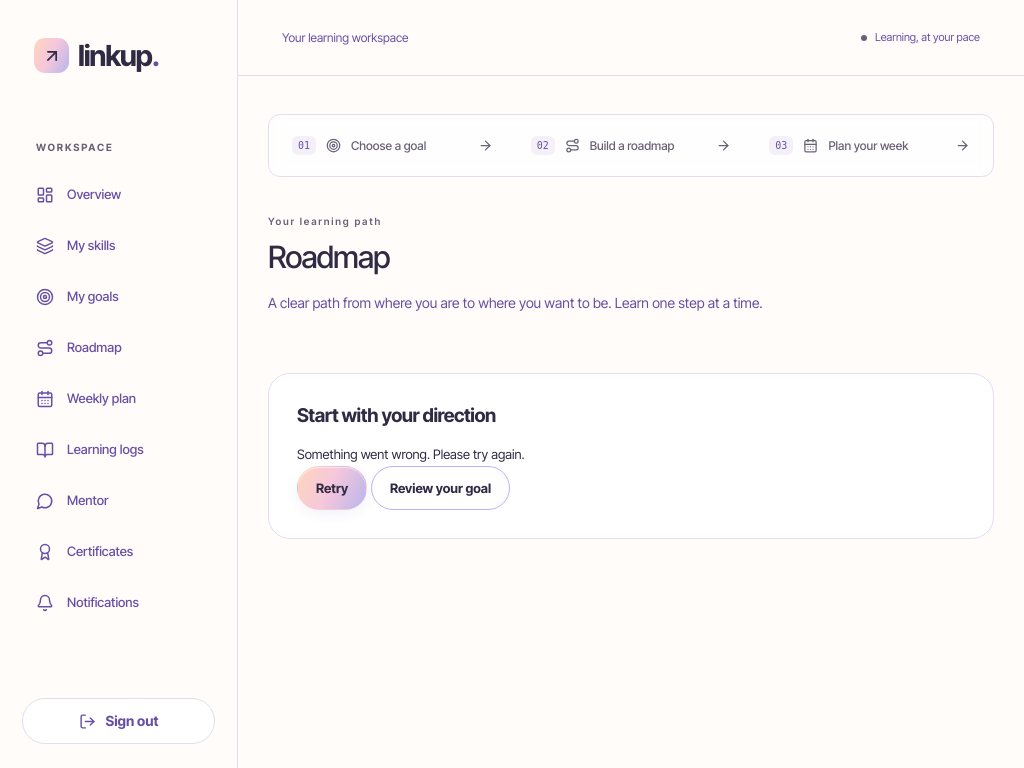
Test: Roadmap page › retries a failed context load and links to goal selection
Check: the message "Something went wrong. Please try again." is shown, box [297,446,524,462]
Click the button "Retry" at (332, 488), box [297,466,367,510]
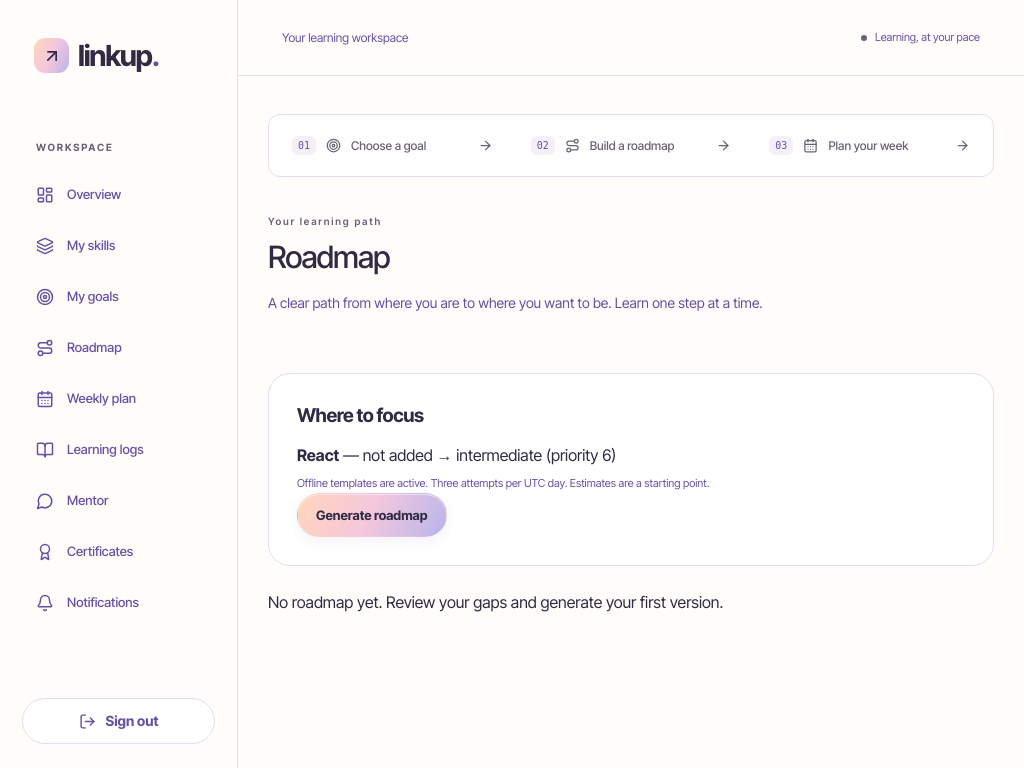
Check: the heading "Where to focus" is shown, box [297,404,424,427]
